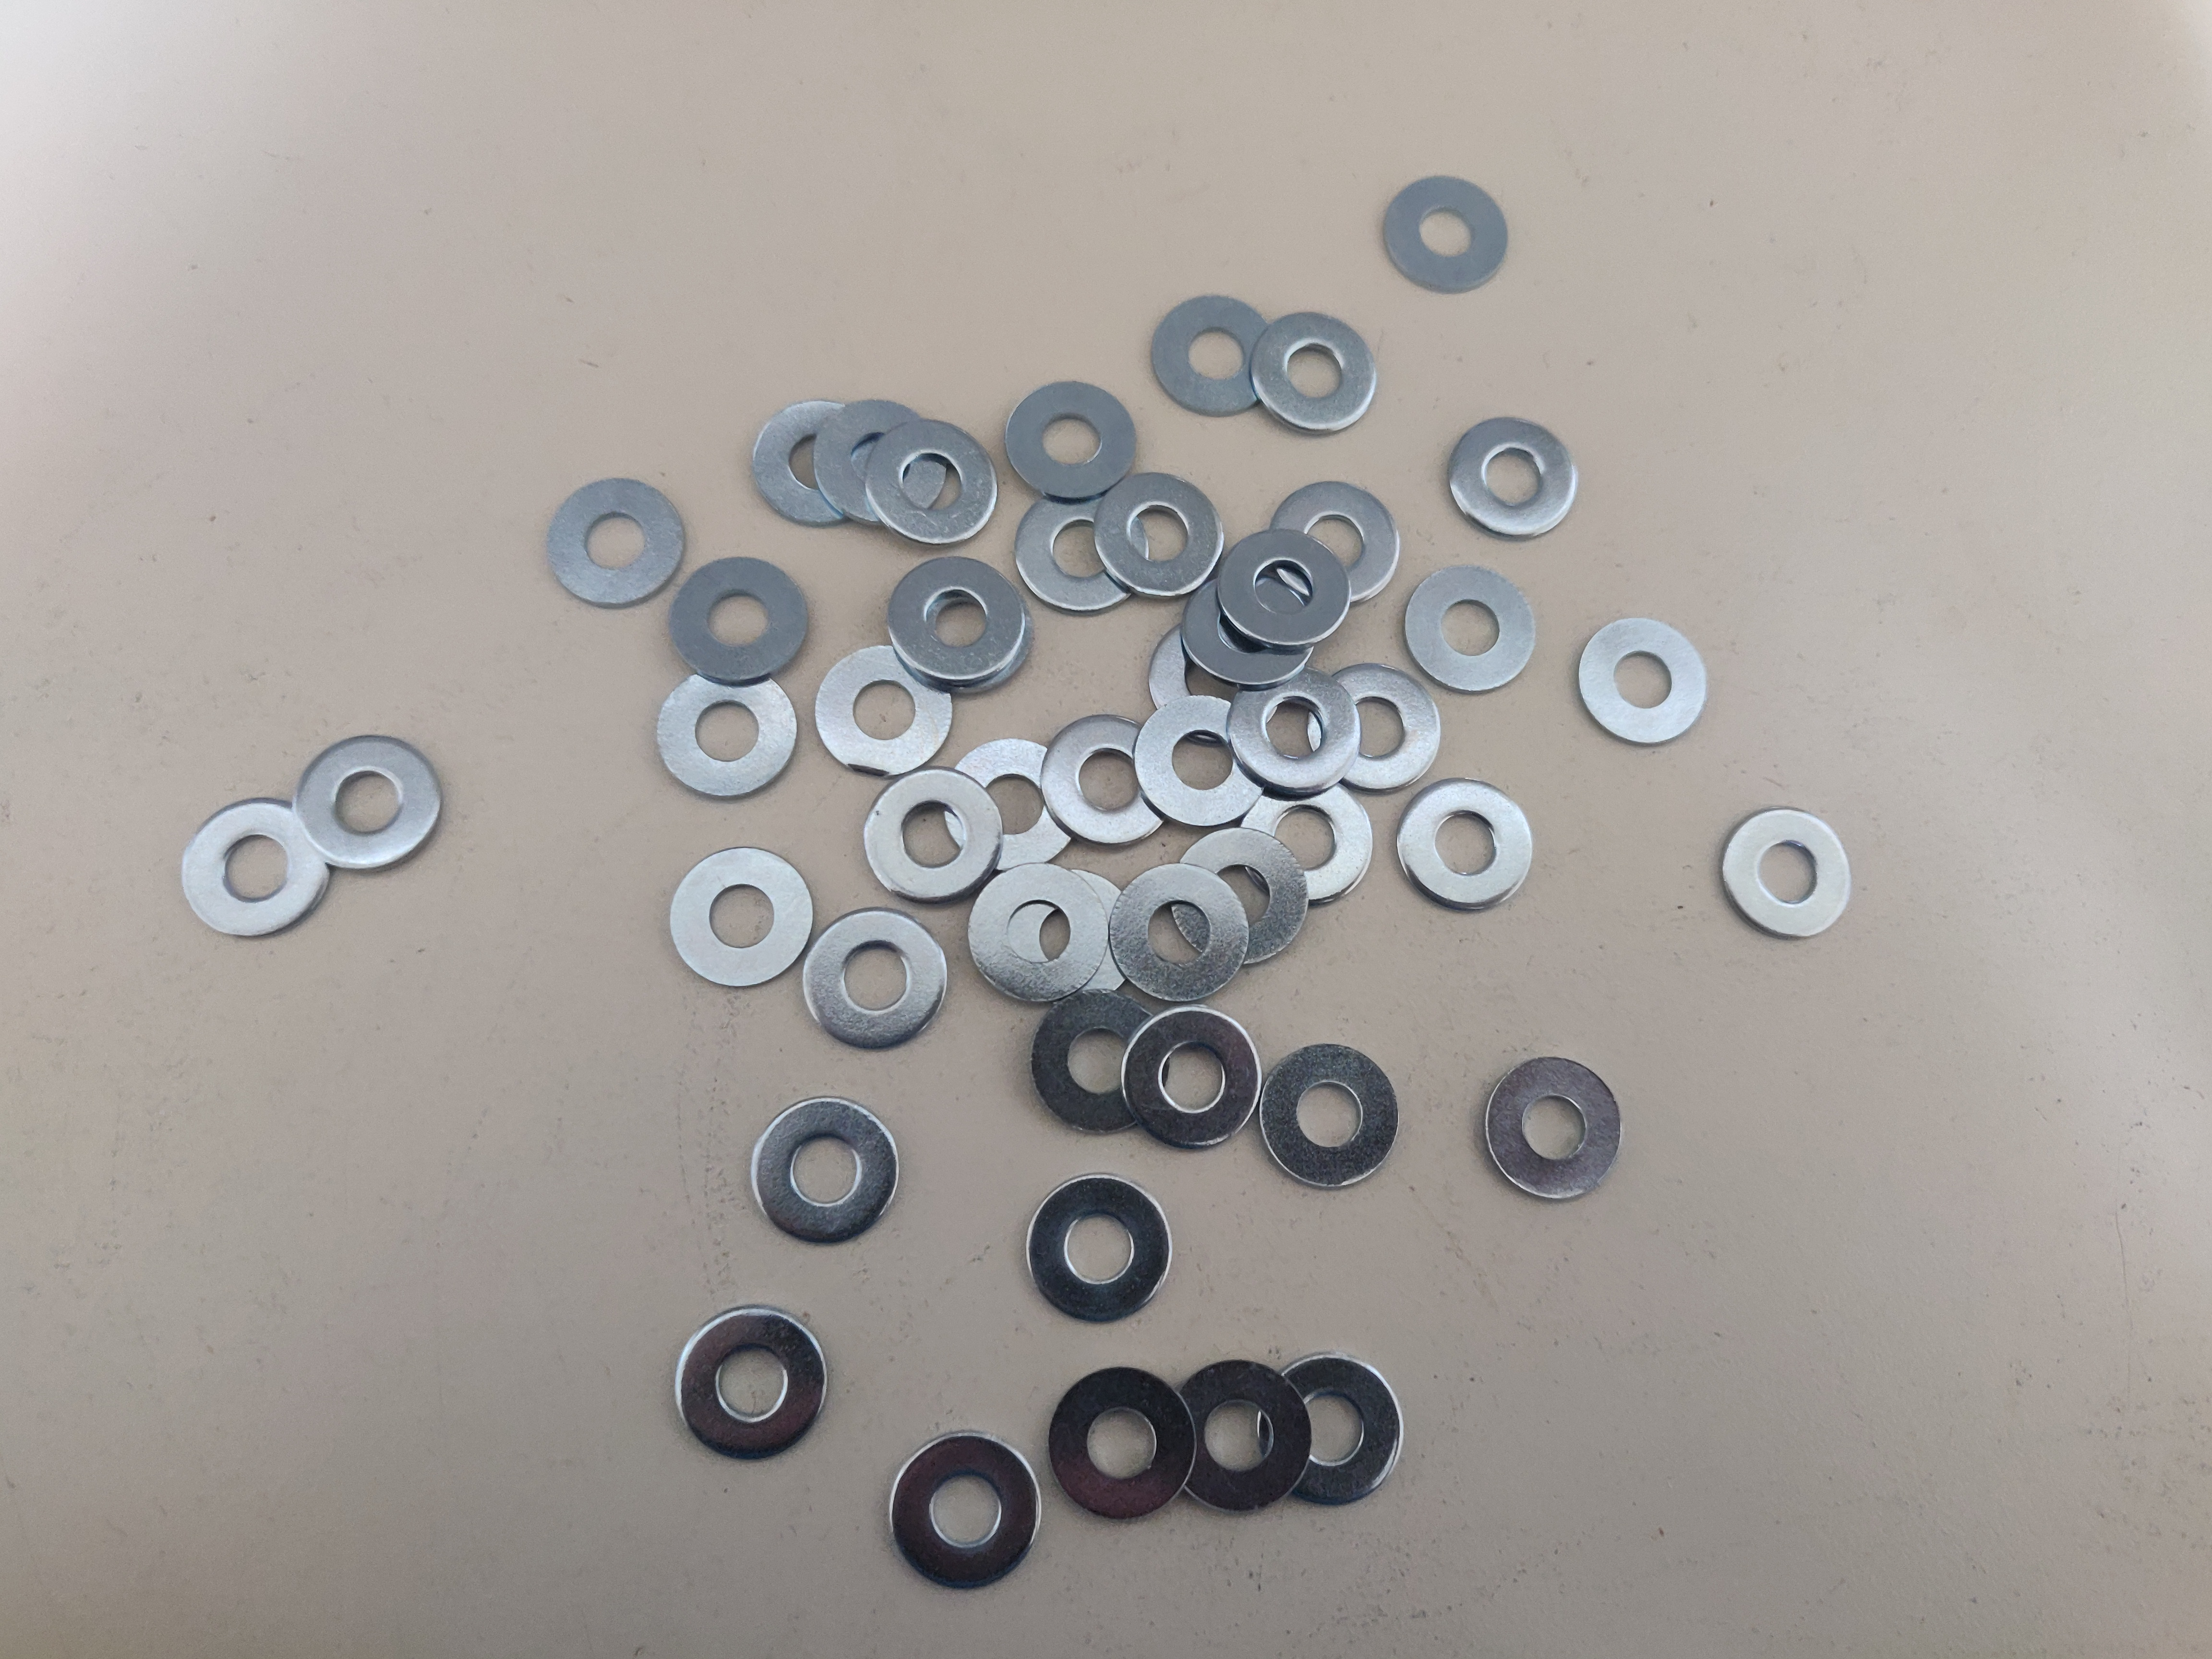circle: (672, 1307, 827, 1462), (890, 1432, 1040, 1591), (1050, 1366, 1197, 1521), (1259, 1356, 1404, 1506), (179, 798, 334, 938), (752, 1098, 899, 1244), (1174, 1359, 1310, 1514), (1028, 1176, 1170, 1321), (669, 847, 815, 986), (803, 910, 948, 1049), (1125, 1006, 1263, 1150), (296, 735, 444, 870), (1263, 1046, 1404, 1185), (1031, 990, 1170, 1131), (970, 864, 1108, 1004), (1109, 864, 1249, 1002), (1172, 828, 1310, 967), (1486, 1058, 1622, 1199), (813, 645, 954, 777), (1399, 777, 1534, 913), (671, 554, 812, 685), (655, 671, 798, 798), (1719, 807, 1853, 941), (1240, 775, 1374, 910), (866, 769, 1001, 901), (946, 739, 1082, 871), (1148, 613, 1285, 742), (545, 479, 685, 606), (1040, 714, 1170, 847), (1230, 667, 1360, 800), (1575, 619, 1709, 748), (1134, 694, 1268, 823), (1306, 662, 1439, 791), (1406, 565, 1536, 694), (1094, 471, 1223, 601), (815, 403, 948, 530), (1268, 479, 1400, 606), (998, 866, 1134, 990), (887, 556, 1024, 678), (894, 570, 1031, 692), (866, 422, 998, 545), (1015, 488, 1148, 612), (1214, 528, 1350, 645), (752, 399, 874, 528), (1150, 295, 1277, 416), (1449, 418, 1578, 538), (1007, 380, 1136, 500), (1181, 570, 1315, 683), (1251, 314, 1378, 432), (1383, 176, 1508, 293)
